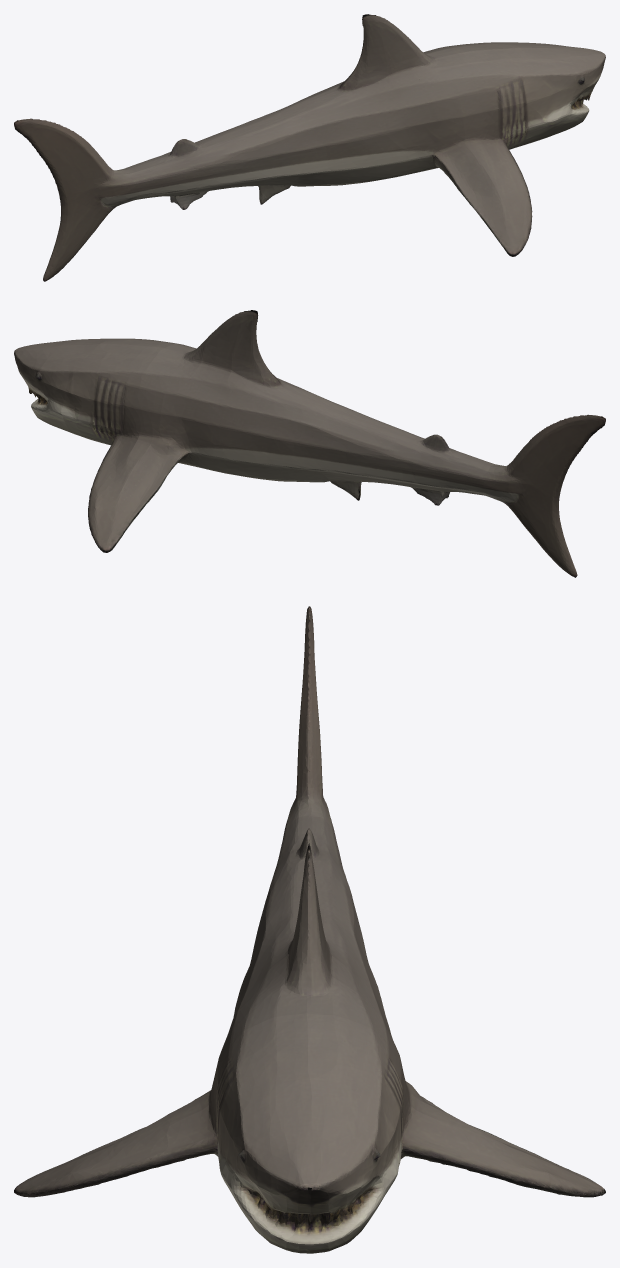
3 renders of one model, top to bottom at view 1: azimuth 30°, elevation 25°; view 2: azimuth 150°, elevation 25°; view 3: azimuth 270°, elevation 25°, orthographic. The views are drawn at different scales.
Parts seen in each view (by area): view 1: world; view 2: world; view 3: world.
Boxes of the visible parts, <box> form: world: <box>14,14,605,281</box>; world: <box>14,310,605,577</box>; world: <box>14,606,605,1253</box>.
Size of the model in its own units: 1 by 0.3061 by 0.5419.
Materials: 1 (1 with a texture image).
